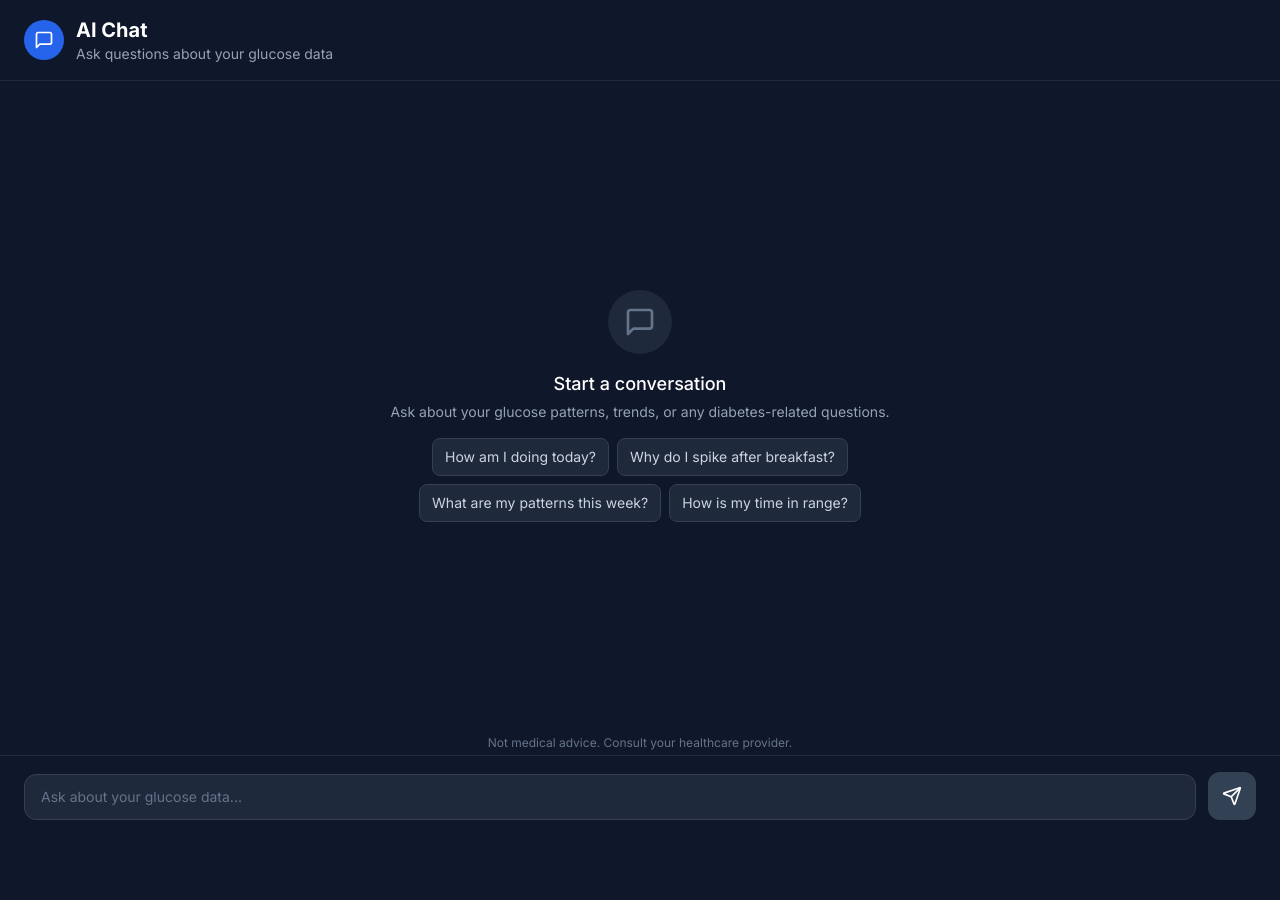
Test case: AI Chat Page › ready state - empty chat › fills input when clicking a suggestion
Click the button "How am I doing today?" at (521, 457), box top-left (432, 438), bottom-right (609, 476)
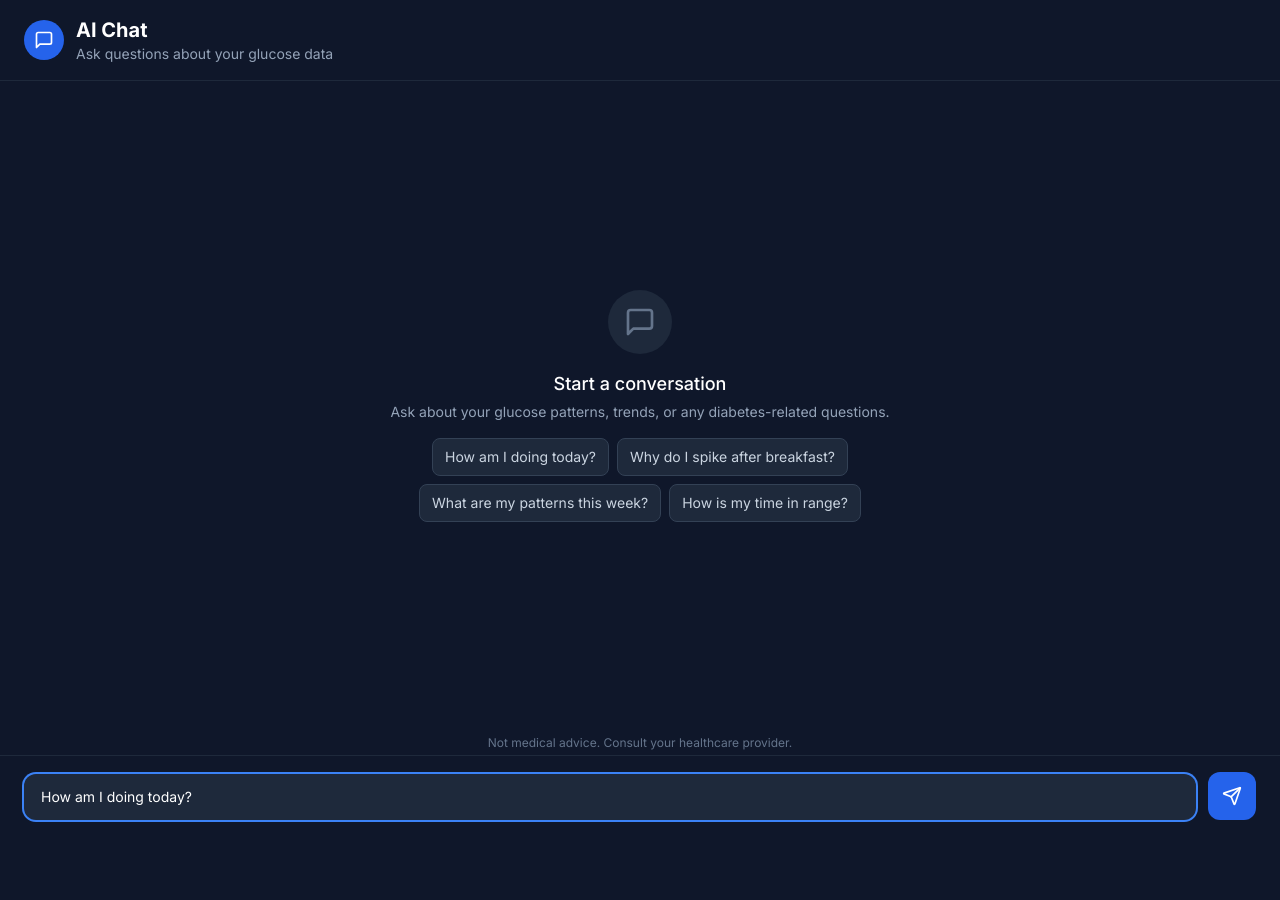
Now the text box with placeholder "Ask about your glucose data..." holds "How am I doing today?", box top-left (24, 774), bottom-right (1196, 820)
